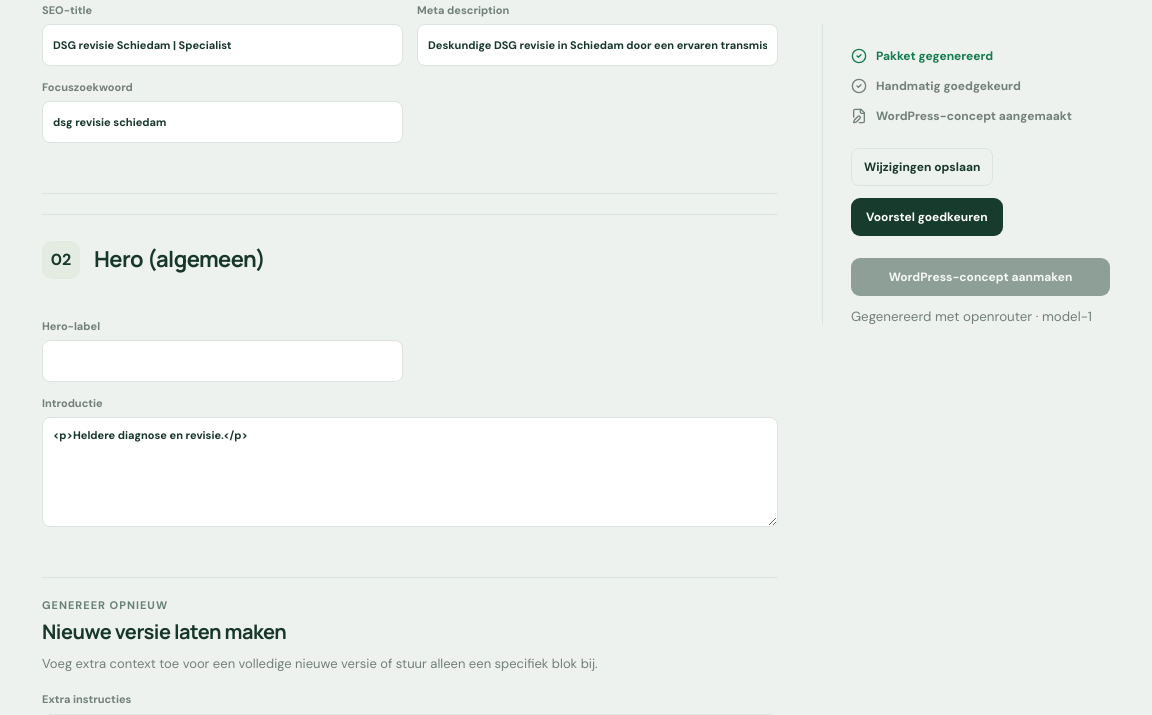
PagePackageReview › does not approve when persisting unsaved edits fails
(page scrolled)
In the field labelled "Hero-label": point(222, 361) [42,340,403,382], type "Niet opgeslagen"
(page scrolled)
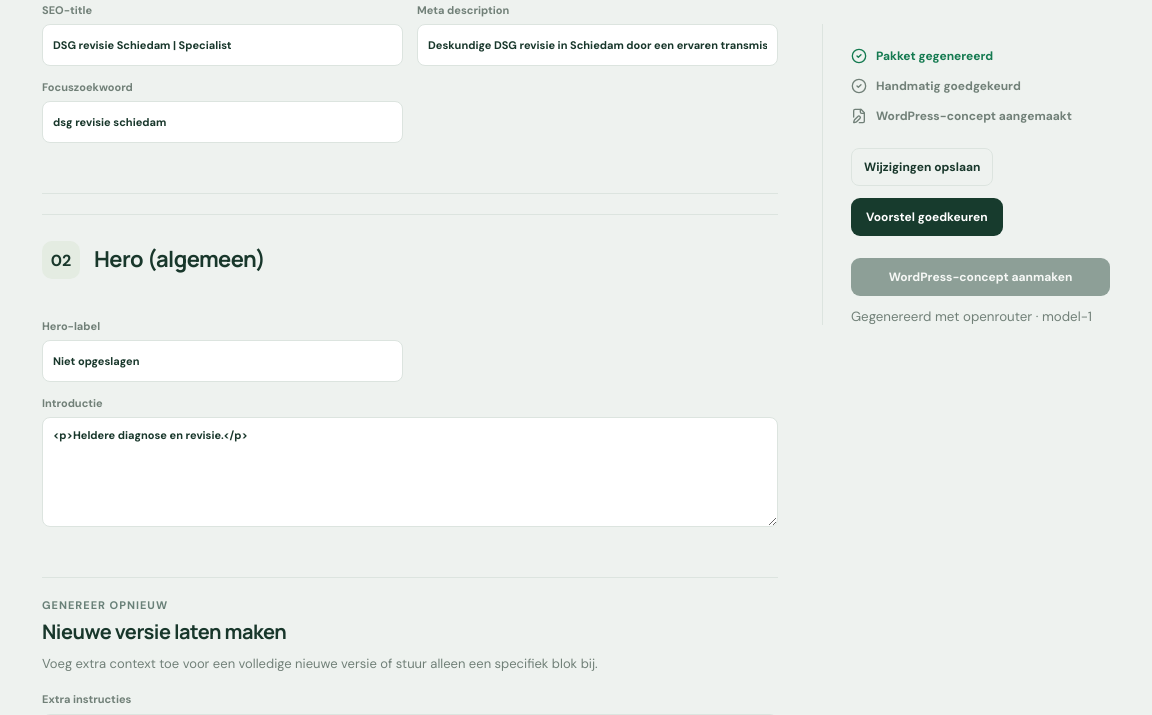
Click the button "Voorstel goedkeuren": point(927, 217) [851,198,1003,236]
(page scrolled)
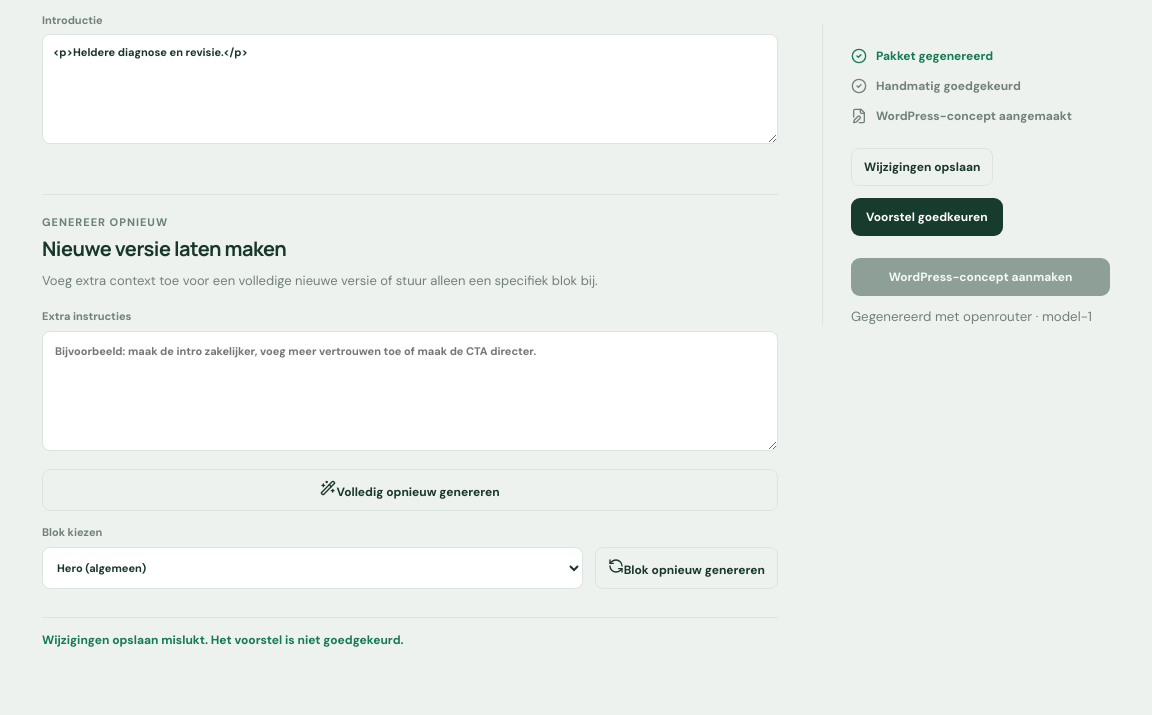
Check: the text "Wijzigingen opslaan mislukt. Het voorstel is niet goedgekeurd." is shown, box [42,632,404,648]
